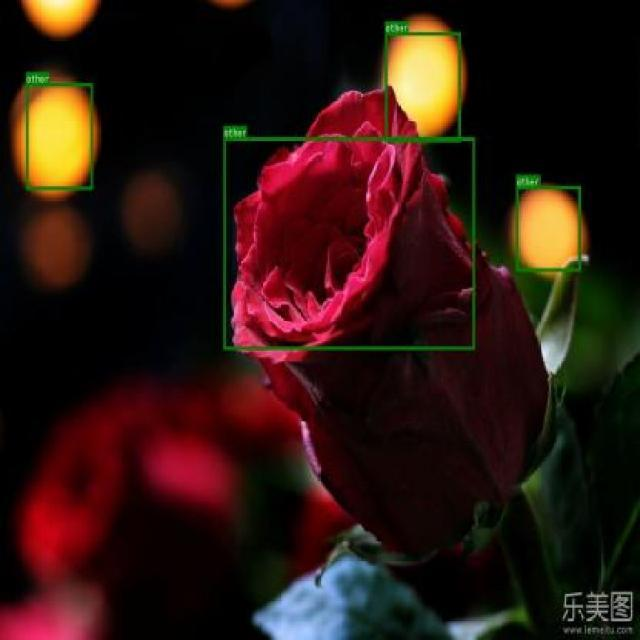other: (222, 136, 475, 350), (384, 31, 460, 142), (26, 83, 92, 189), (515, 186, 580, 272)
